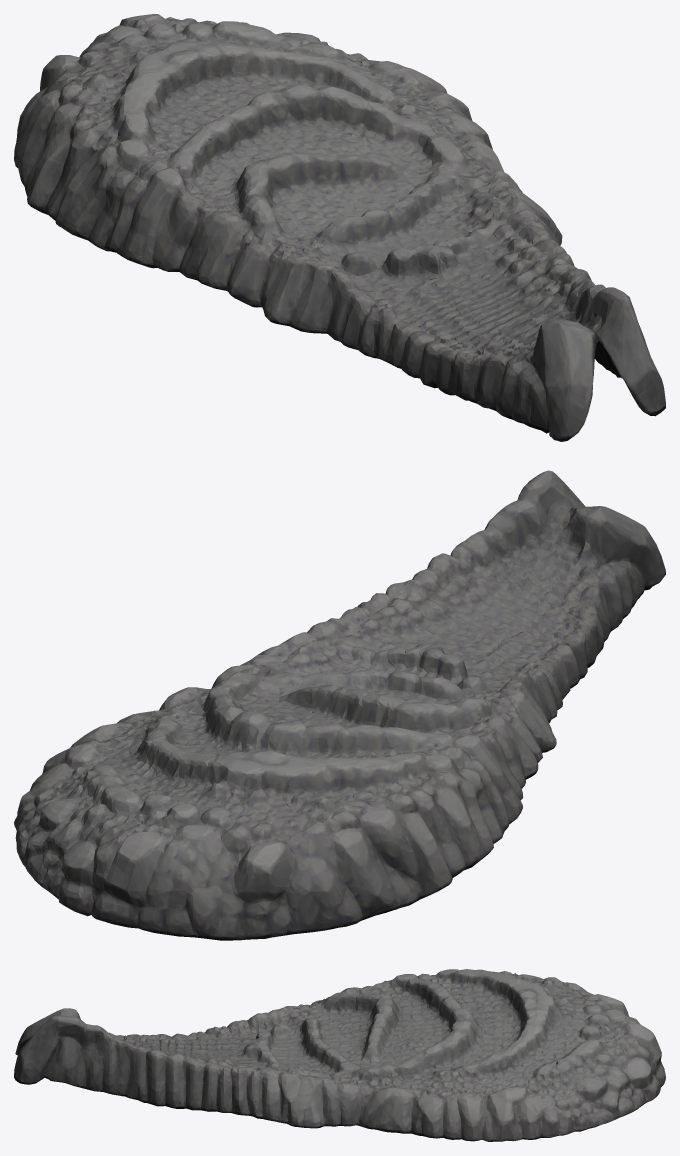
3 renders of one model, top to bottom at view 1: azimuth 30°, elevation 25°; view 2: azimuth 150°, elevation 25°; view 3: azimuth 270°, elevation 25°, orthographic. The views are drawn at different scales.
Parts seen in each view (by area): view 1: world; view 2: world; view 3: world.
Part boxes in pixels (x1,y1,x2,y2): world: [14, 14, 665, 441]; world: [14, 470, 665, 940]; world: [14, 969, 665, 1141].
Bounding box in the file's own units: 13.58 × 3.79 × 28.
Materials: 1 (1 with a texture image).
